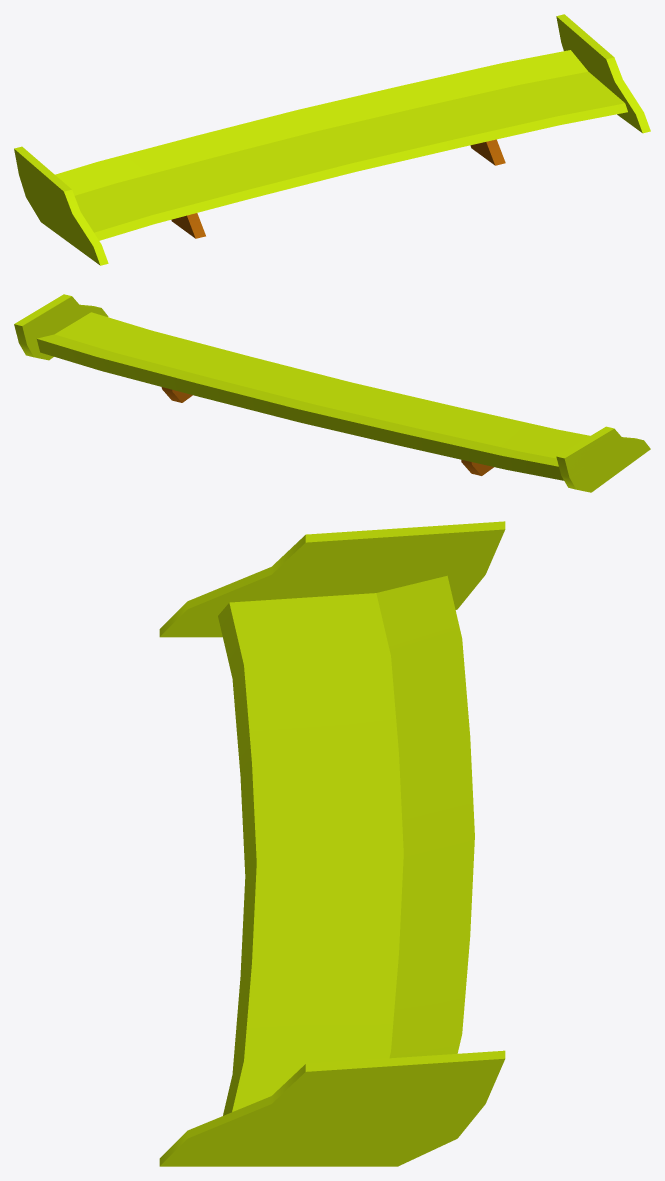
Rendered from Spoiler08_ColorCoded.fbx.
3 renders of one model, top to bottom at view 1: azimuth 30°, elevation 25°; view 2: azimuth 150°, elevation 25°; view 3: azimuth 270°, elevation 25°, orthographic. The views are drawn at different scales.
Visible parts, largest first — view 1: Spoiler08; view 2: Spoiler08; view 3: Spoiler08.
Part boxes in pixels (bbox=[...]): Spoiler08: bbox=[14, 14, 650, 265]; Spoiler08: bbox=[14, 294, 650, 492]; Spoiler08: bbox=[159, 521, 505, 1166].
Size of the model in its own units: 52.81 by 14.36 by 6.84.
